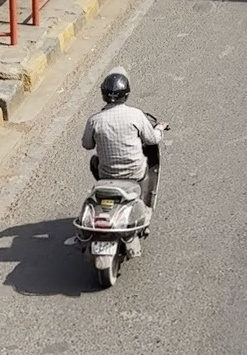BikeWithRider: (62, 64, 176, 289)
Helmet: (95, 64, 137, 108)
